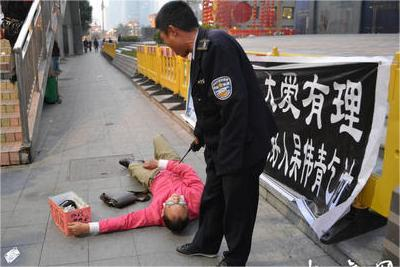down: (57, 129, 223, 242)
up: (150, 1, 275, 267)
